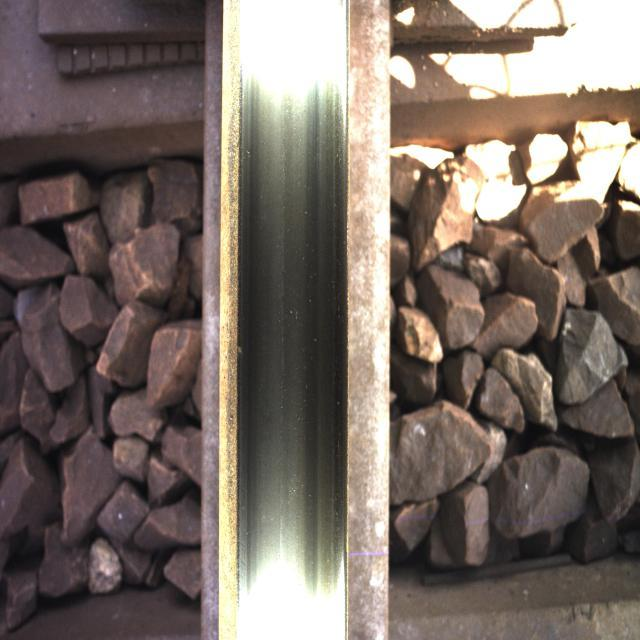break: (234, 35, 338, 597)
